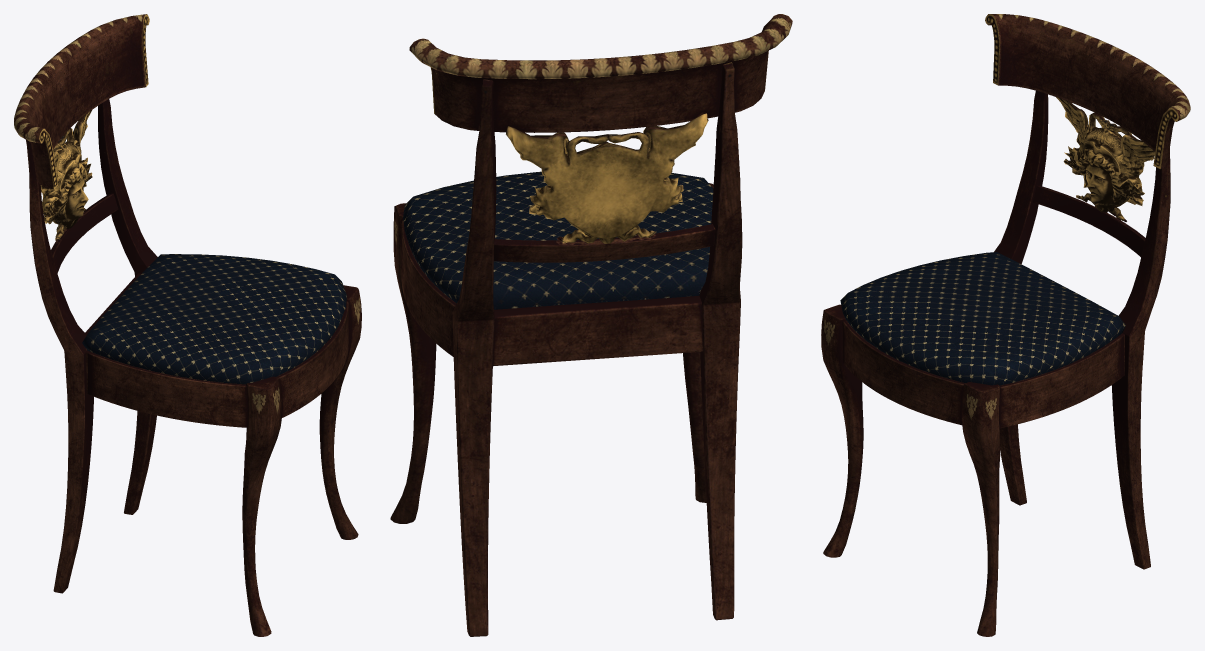
The model's file is mercury_chair_regency_period.glb.
3 views of the same model, side by side, from view 1: azimuth 30°, elevation 25°; view 2: azimuth 150°, elevation 25°; view 3: azimuth 270°, elevation 25° (orthographic). The views are drawn at different scales.
Visible parts, largest first — view 1: SM_Chair_low_topSeat, SM_Chair_low, SM_Chair_low_head; view 2: SM_Chair_low, SM_Chair_low_topSeat, SM_Chair_low_head; view 3: SM_Chair_low_topSeat, SM_Chair_low, SM_Chair_low_head.
Part boxes in pixels (x1=…): SM_Chair_low_topSeat: x1=14, y1=14, x2=346, y2=384; SM_Chair_low: x1=25, y1=99, x2=361, y2=636; SM_Chair_low_head: x1=40, y1=110, x2=92, y2=240; SM_Chair_low: x1=390, y1=62, x2=742, y2=636; SM_Chair_low_topSeat: x1=403, y1=14, x2=792, y2=309; SM_Chair_low_head: x1=506, y1=113, x2=708, y2=243; SM_Chair_low_topSeat: x1=840, y1=14, x2=1190, y2=385; SM_Chair_low: x1=821, y1=90, x2=1170, y2=636; SM_Chair_low_head: x1=1056, y1=97, x2=1155, y2=221.
Bounding box in the file's own units: 1.02 × 1.44 × 1.02.
1 material, 1 textured.
